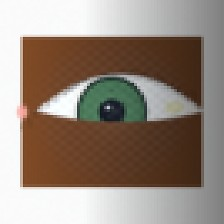pinguecula_lesion: (156, 93, 192, 122)
